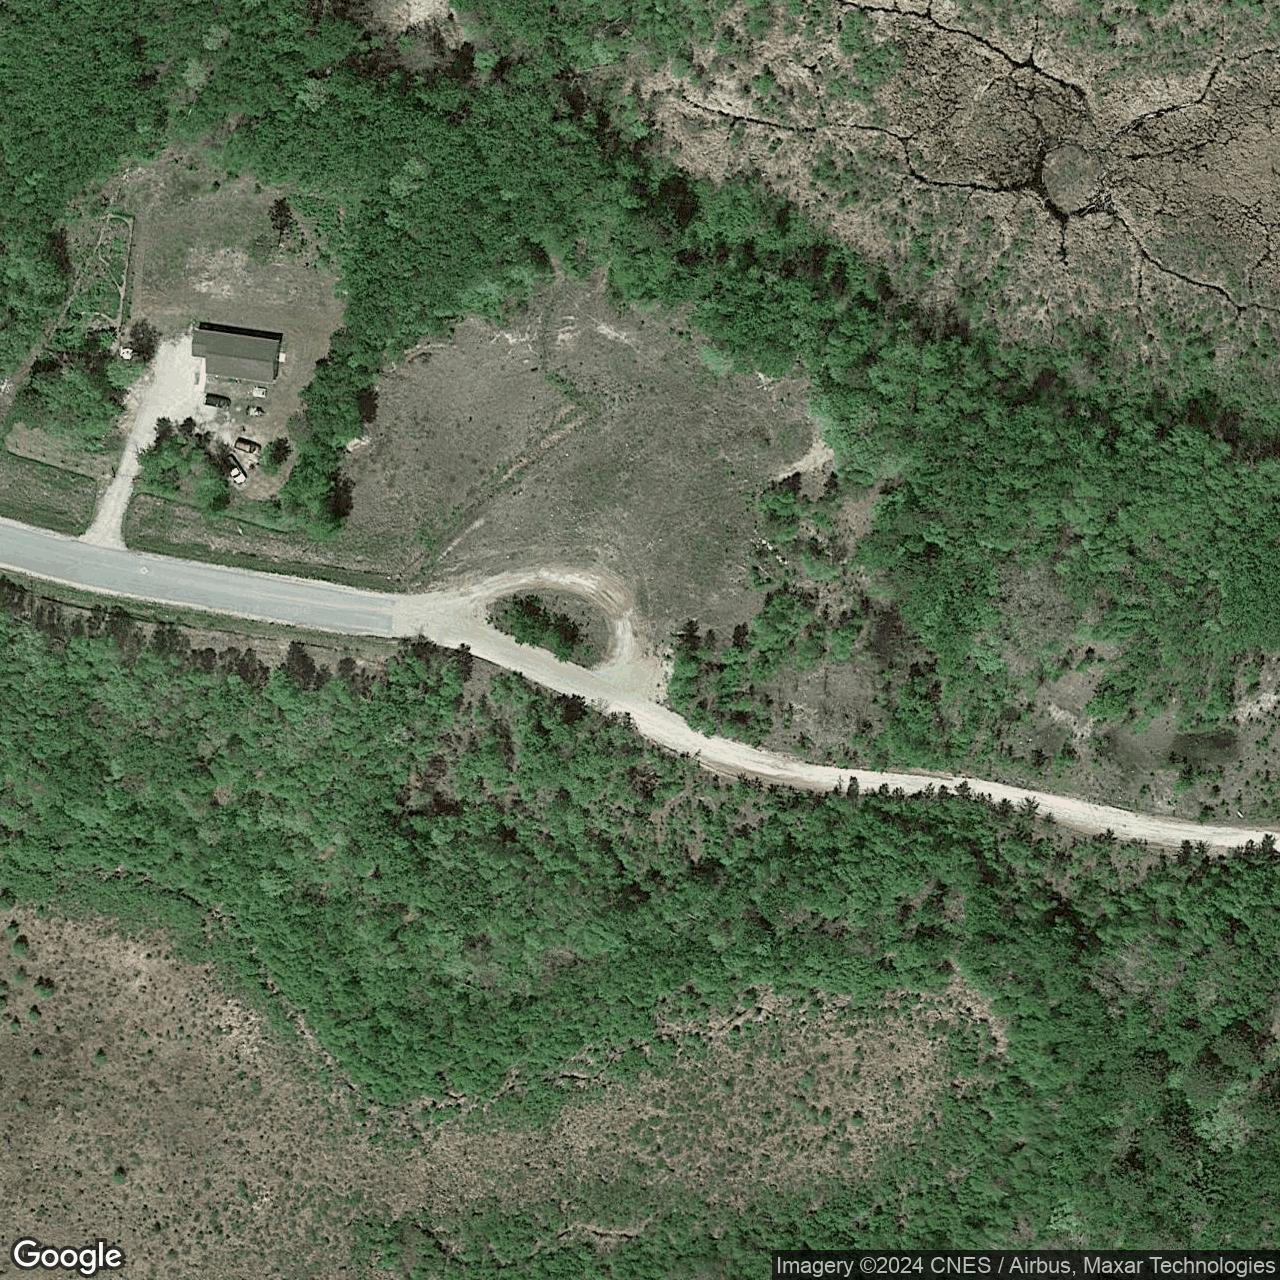House: (190, 329, 282, 386)
